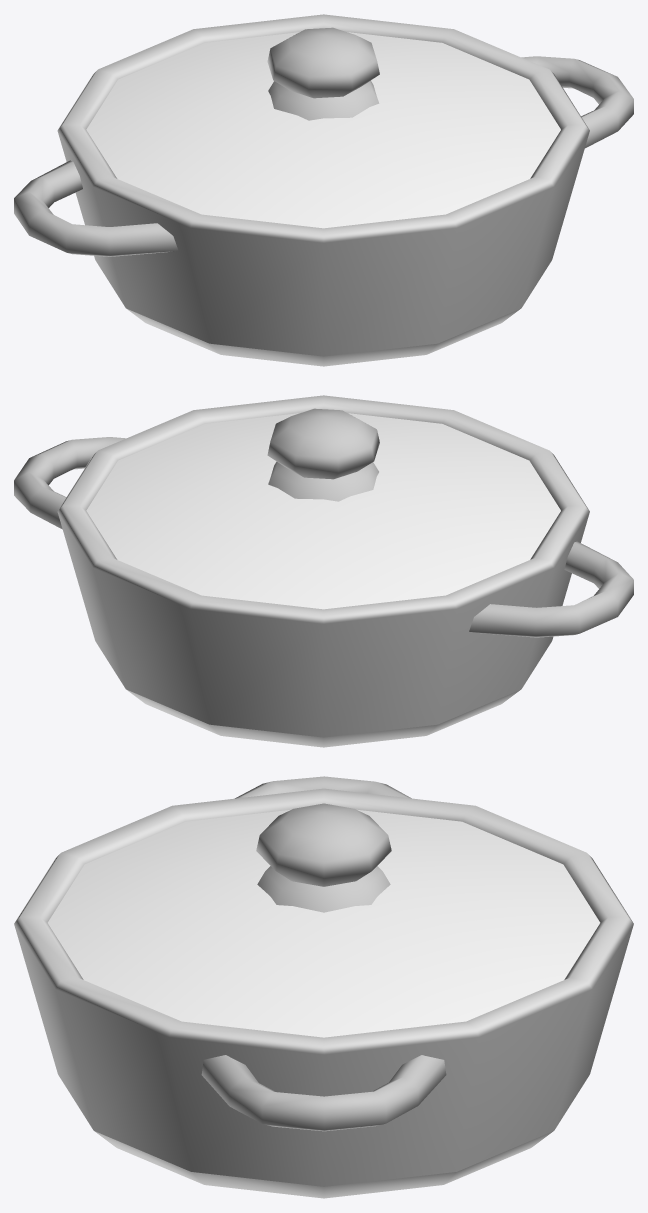
The model's file is prop_023.fbx.
3 renders of one model, top to bottom at view 1: azimuth 30°, elevation 25°; view 2: azimuth 150°, elevation 25°; view 3: azimuth 270°, elevation 25°, orthographic. The views are drawn at different scales.
Parts seen in each view (by area): view 1: prop_023; view 2: prop_023; view 3: prop_023.
Part boxes in pixels (bbox=[...]): prop_023: bbox=[14, 14, 633, 366]; prop_023: bbox=[14, 395, 633, 747]; prop_023: bbox=[14, 776, 633, 1198].
Bounding box in the file's own units: 58.49 × 45.82 × 23.22.
